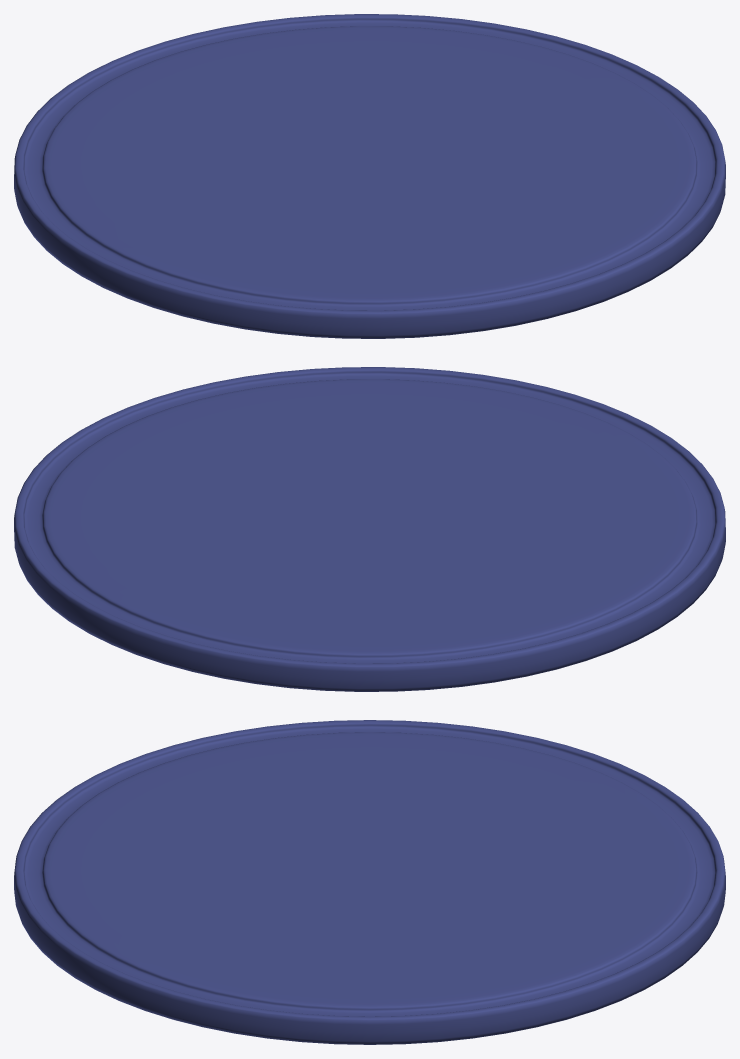
Rendered from master_disc.fbx.
3 views of the same model, one above another, from view 1: azimuth 30°, elevation 25°; view 2: azimuth 150°, elevation 25°; view 3: azimuth 270°, elevation 25° (orthographic).
Parts seen in each view (by area): view 1: Cylinder; view 2: Cylinder; view 3: Cylinder.
Part boxes in pixels (<box>): Cylinder: <box>14,14,725,338</box>; Cylinder: <box>14,367,725,691</box>; Cylinder: <box>14,720,725,1044</box>.
Size of the model in its own units: 3060 by 128 by 3060.
